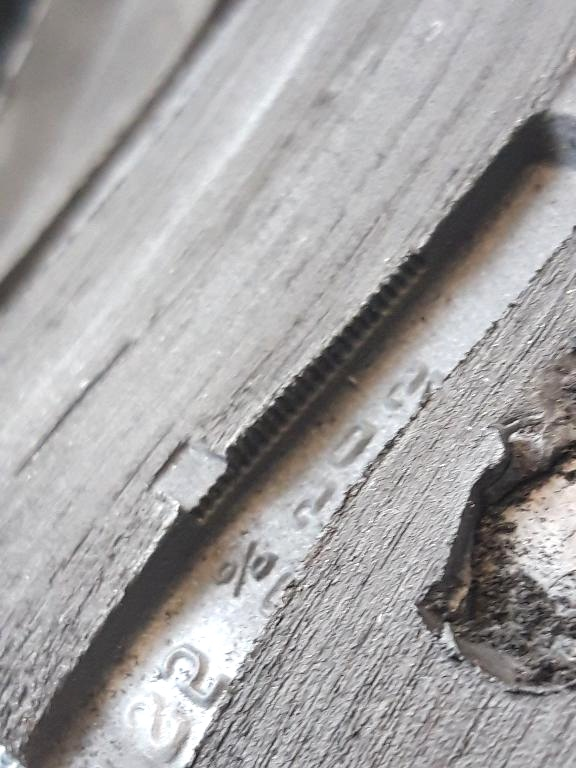temoin:0: (134, 404, 262, 540)
